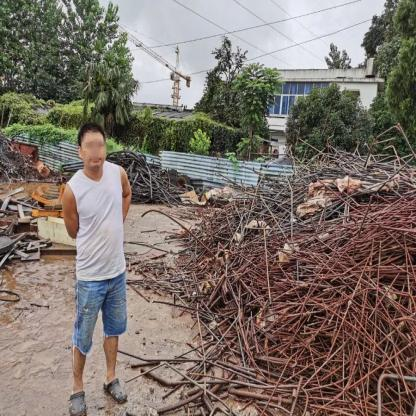rebar: (141, 142, 416, 415)
